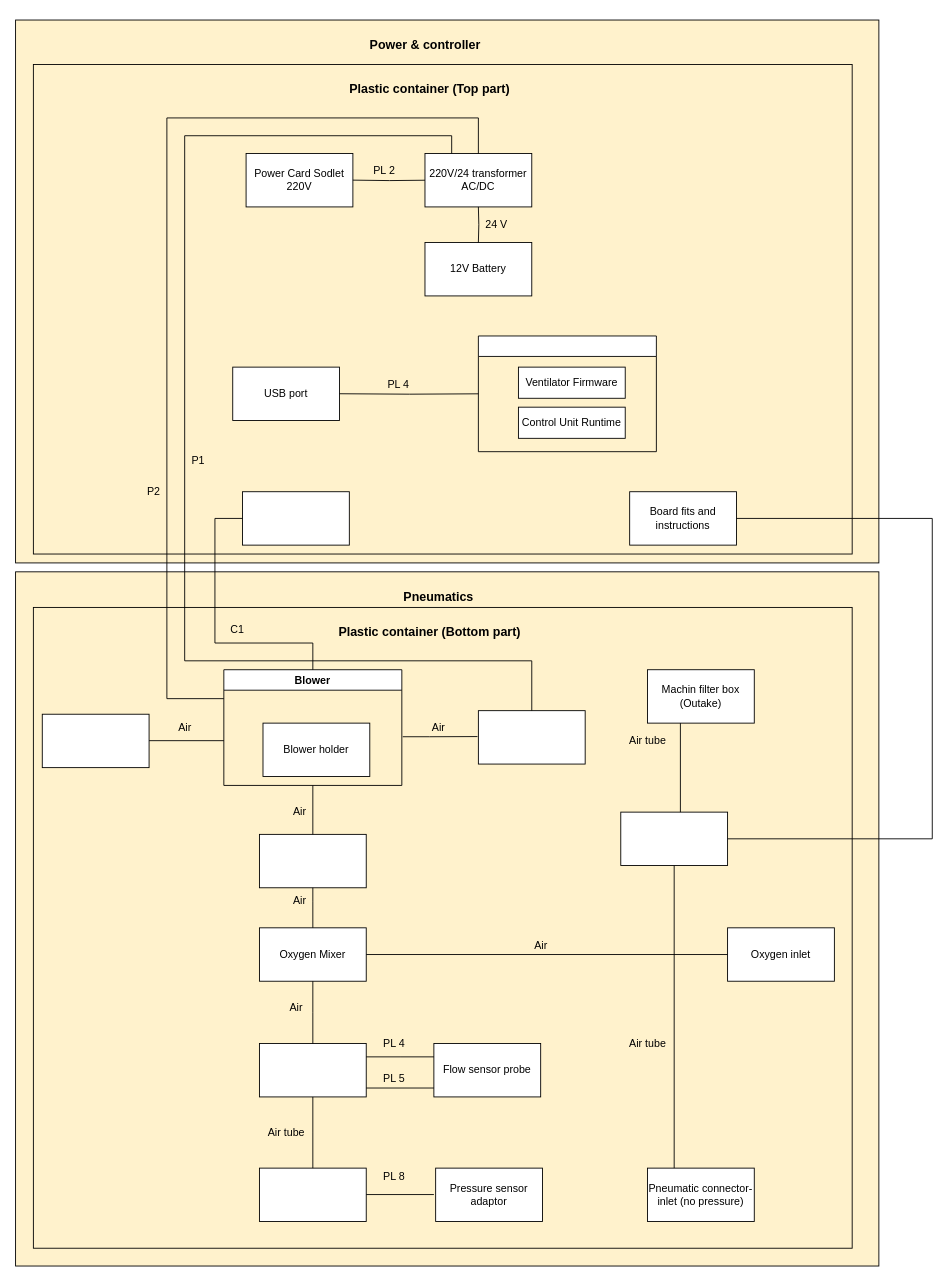
The diagram is 949 pixels wide and 1282 high, and some of its shapes have lost their labels. Each missing label, with the box of its shape:
Blower cooling ventirad( fan): (477, 710, 585, 764)
Blower to pipe connector: (259, 833, 366, 888)
Board PCB: (477, 335, 656, 452)
Flow sensor connector: (259, 1043, 366, 1097)
LCD Display: (242, 491, 349, 545)
Machine filter Box (Intake): (41, 713, 149, 768)
Penumatic connector outlet (pressure): (259, 1167, 366, 1222)
Pressure valeve: (620, 811, 728, 866)
